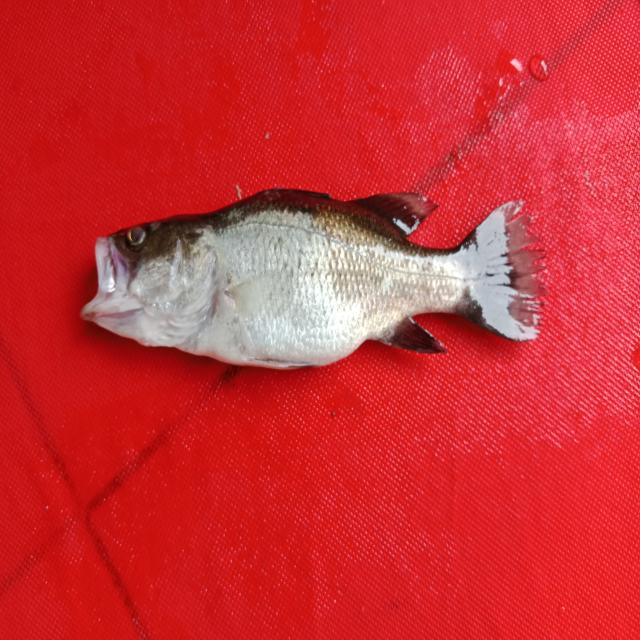ikan: (74, 161, 556, 385)
